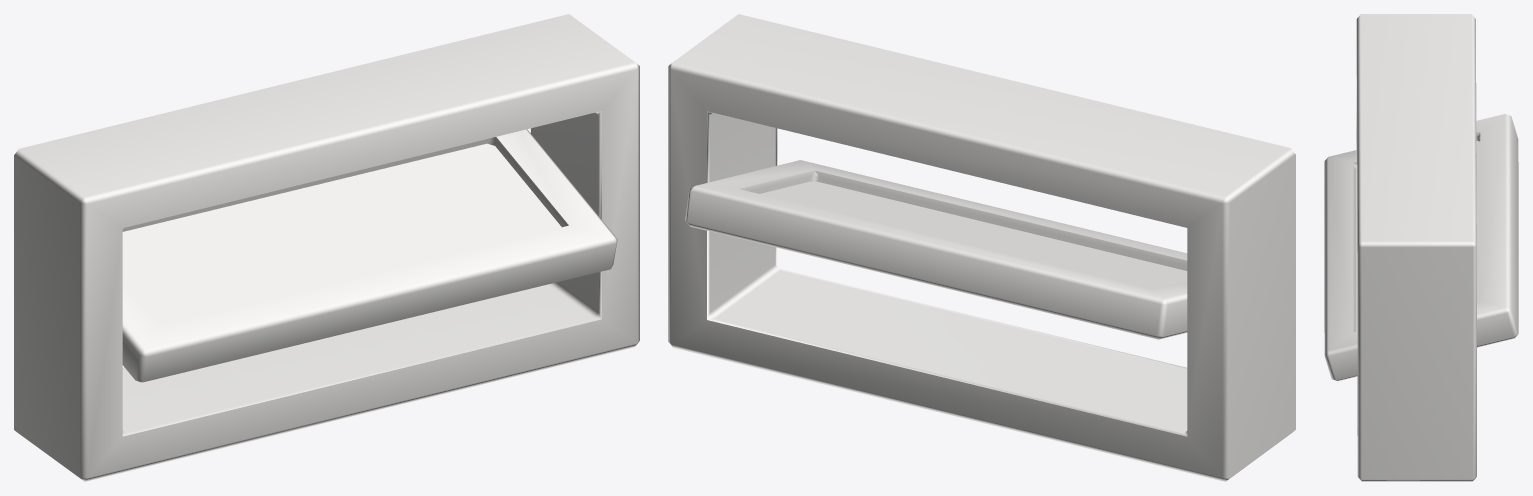
Rendered from Window_8.glb.
3 renders of one model, left to right at view 1: azimuth 30°, elevation 25°; view 2: azimuth 150°, elevation 25°; view 3: azimuth 270°, elevation 25°, orthographic. The views are drawn at different scales.
Parts seen in each view (by area): view 1: Window_8; view 2: Window_8; view 3: Window_8.
Boxes of the visible parts, x1,y1,x2,y2 form: Window_8: [14, 14, 639, 481]; Window_8: [668, 14, 1295, 481]; Window_8: [1324, 14, 1518, 481].
Size of the model in its own units: 2.24 by 1.09 by 0.7972.
2 materials, 2 textured.
